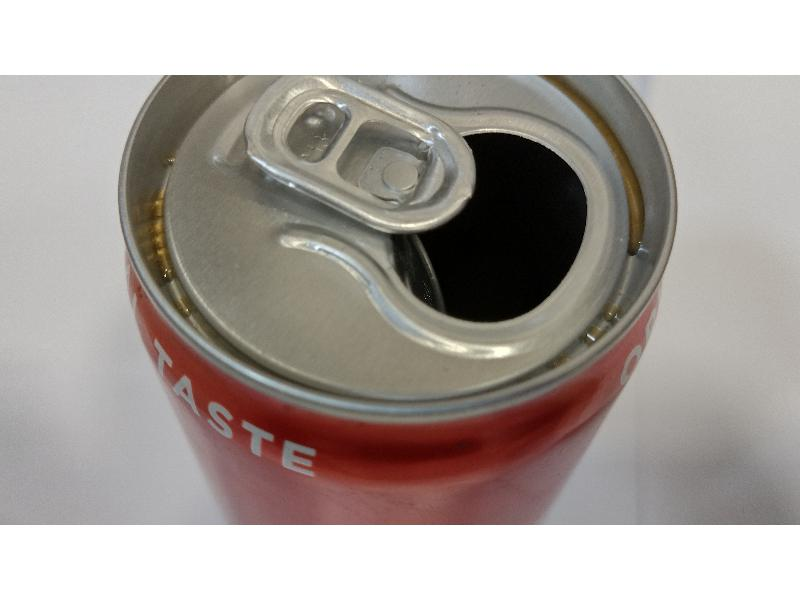can: (107, 75, 681, 522)
